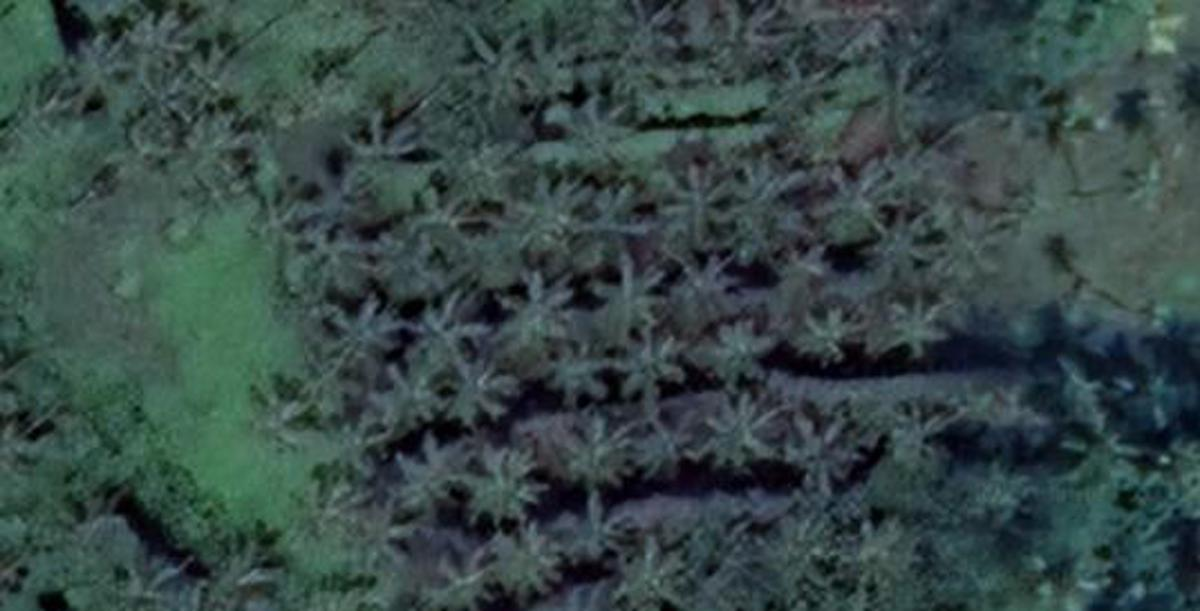coconut: (588, 0, 705, 98), (436, 24, 541, 127), (539, 82, 644, 185), (770, 391, 864, 496), (866, 282, 976, 371), (814, 145, 911, 243), (454, 434, 548, 534), (734, 523, 839, 611), (962, 384, 1063, 474), (826, 517, 920, 611), (190, 517, 284, 611), (696, 382, 781, 485), (320, 94, 418, 183), (528, 326, 624, 416), (875, 389, 960, 490), (293, 208, 385, 299), (315, 282, 409, 371), (402, 181, 490, 270), (248, 163, 333, 255), (358, 346, 441, 440), (228, 371, 317, 458), (494, 517, 579, 608), (911, 199, 1002, 284), (402, 293, 492, 378), (1110, 349, 1188, 447), (593, 248, 676, 340), (658, 165, 750, 246), (550, 420, 638, 503), (673, 239, 758, 324), (120, 0, 208, 82), (510, 174, 588, 266), (682, 317, 776, 393), (382, 429, 463, 517), (172, 102, 252, 190), (497, 268, 582, 349), (436, 346, 523, 425), (602, 326, 691, 402), (333, 503, 416, 584), (855, 196, 931, 282), (758, 42, 835, 125), (608, 534, 691, 611), (568, 172, 653, 246), (1043, 351, 1117, 436), (723, 163, 803, 241), (47, 38, 129, 114), (1058, 425, 1141, 499), (6, 80, 73, 167), (416, 537, 494, 611), (987, 85, 1061, 161), (763, 226, 837, 302), (783, 299, 852, 378), (626, 414, 696, 487), (1114, 147, 1184, 212)
